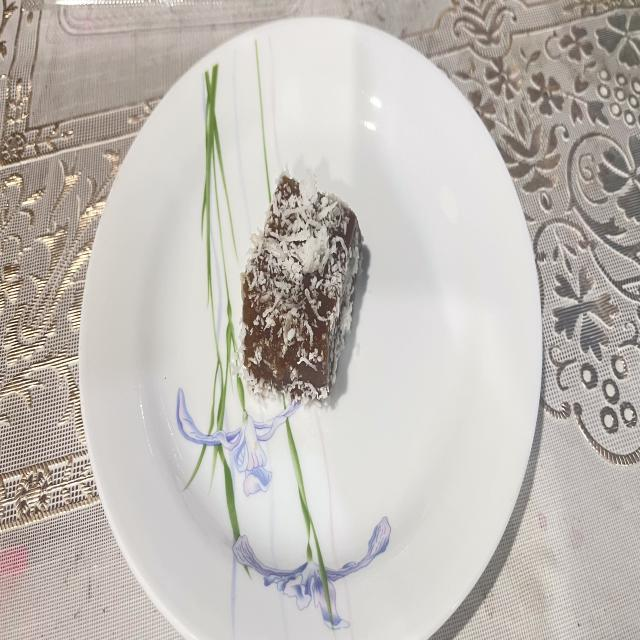kaswi: (241, 171, 362, 400)
